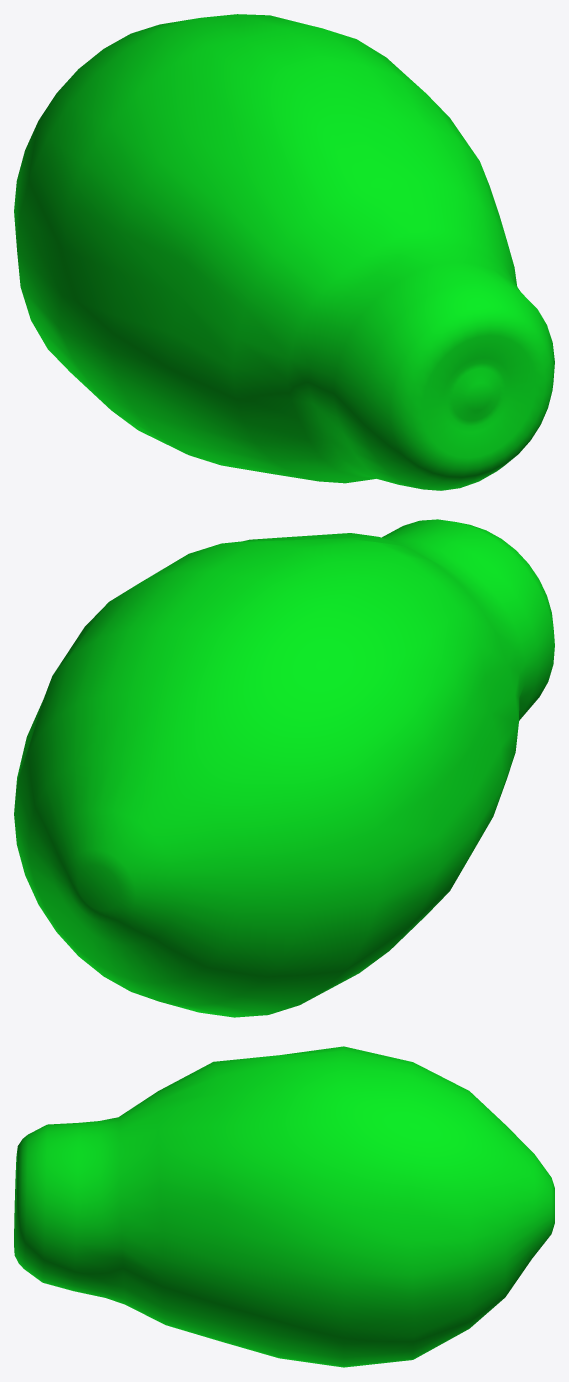
File: papaya.fbx
3 views of the same model, one above another, from view 1: azimuth 30°, elevation 25°; view 2: azimuth 150°, elevation 25°; view 3: azimuth 270°, elevation 25° (orthographic). The views are drawn at different scales.
Parts seen in each view (by area): view 1: Circle; view 2: Circle; view 3: Circle.
Boxes of the visible parts, left/top/right/bottom form: Circle: left=14, top=14, right=554, bottom=490; Circle: left=14, top=519, right=554, bottom=1017; Circle: left=14, top=1046, right=554, bottom=1367.
Bounding box in the file's own units: 172 × 169 × 294.
